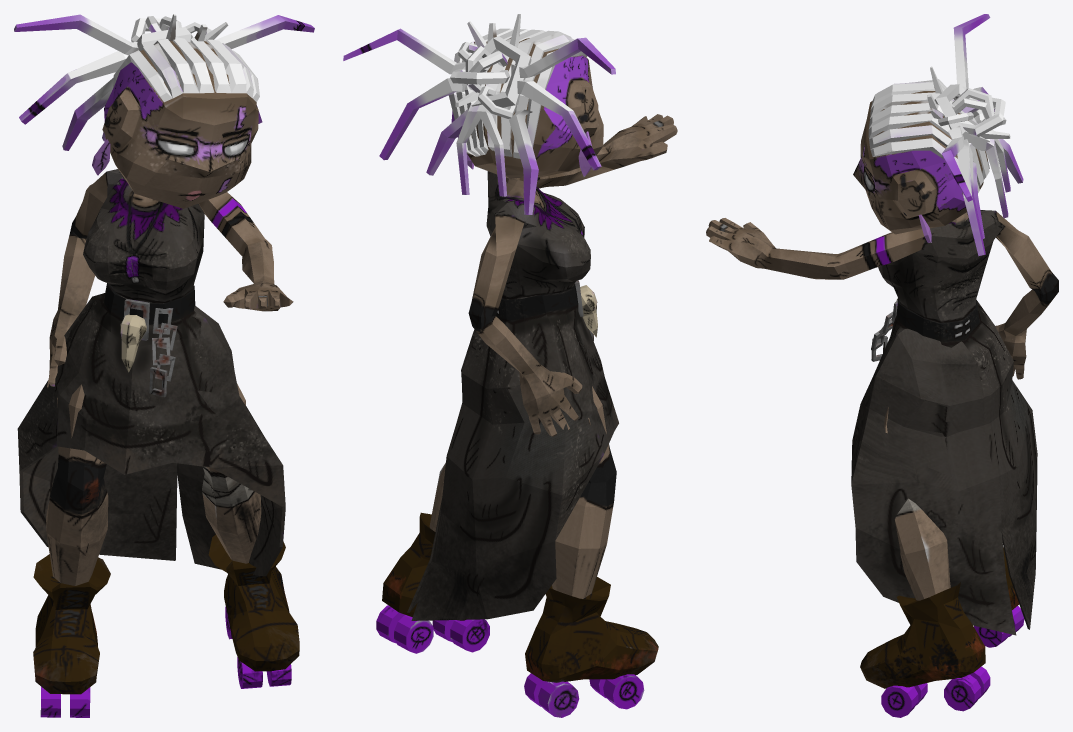
Rendered from bruja_000033.obj.
The picture shows the model from 3 angles, left to right: view 1: azimuth 30°, elevation 25°; view 2: azimuth 150°, elevation 25°; view 3: azimuth 270°, elevation 25°; orthographic projection. The views are drawn at different scales.
Visible parts, largest first — view 1: Bruja_Plane.001; view 2: Bruja_Plane.001; view 3: Bruja_Plane.001.
Boxes of the visible parts, x1,y1,x2,y2 form: Bruja_Plane.001: (14,14,314,717); Bruja_Plane.001: (343,14,677,717); Bruja_Plane.001: (706,14,1058,717).
Size of the model in its own units: 7.58 by 16.51 by 8.58.
